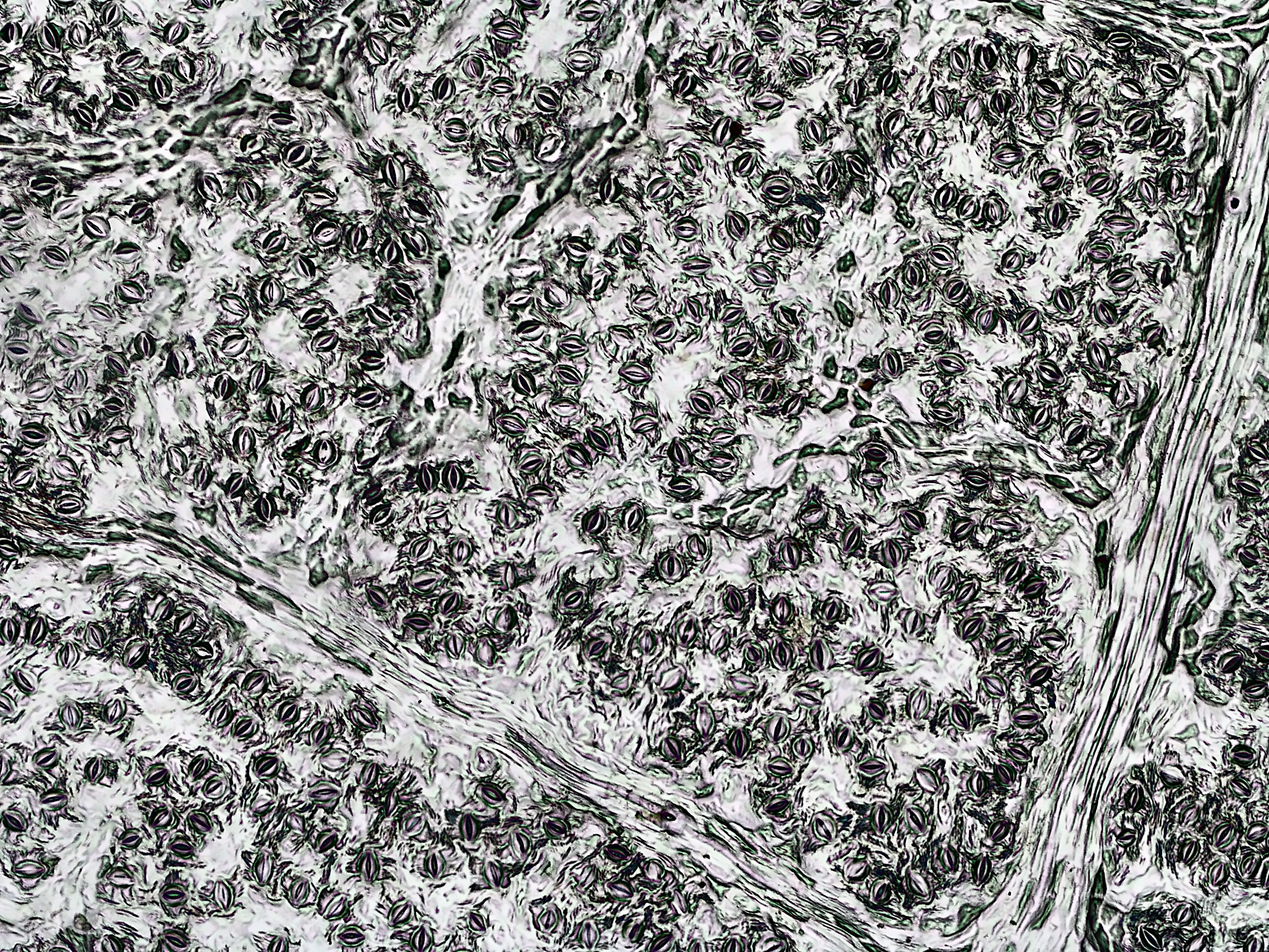stomata: (673, 146, 708, 181), (10, 419, 57, 445), (656, 549, 691, 583), (300, 782, 347, 807), (535, 129, 569, 162), (347, 700, 382, 732), (743, 261, 781, 290), (924, 86, 957, 119), (812, 159, 846, 191), (855, 437, 895, 464), (567, 0, 612, 24), (759, 176, 796, 205), (298, 381, 330, 414), (1084, 338, 1113, 374), (195, 171, 227, 203), (725, 48, 758, 79), (428, 70, 458, 104), (488, 17, 527, 43), (1101, 211, 1138, 238), (161, 442, 192, 474), (120, 637, 150, 670), (187, 459, 217, 492), (1223, 740, 1261, 766), (50, 491, 88, 517), (988, 143, 1026, 169), (438, 116, 473, 144), (1108, 380, 1143, 408), (958, 467, 994, 494), (1030, 167, 1066, 194), (1001, 472, 1034, 501), (395, 79, 420, 117), (112, 279, 153, 302), (1009, 707, 1048, 731), (1031, 360, 1067, 386), (879, 108, 909, 139), (708, 116, 738, 147), (52, 455, 84, 484), (356, 851, 384, 884), (109, 84, 142, 112), (398, 228, 431, 256), (774, 536, 801, 570), (378, 154, 405, 188), (279, 139, 313, 166), (366, 31, 393, 65), (561, 443, 596, 469), (102, 422, 137, 448), (298, 186, 341, 207), (491, 412, 527, 437), (249, 850, 274, 886), (931, 181, 961, 211), (1013, 41, 1041, 73), (35, 20, 62, 53), (764, 226, 797, 253), (1112, 75, 1145, 102), (987, 513, 1024, 537), (478, 148, 515, 172), (1063, 51, 1089, 85), (577, 507, 606, 537), (257, 277, 286, 307), (364, 301, 394, 330), (168, 53, 198, 82), (531, 84, 561, 113), (1041, 198, 1071, 227), (718, 371, 749, 399), (839, 73, 867, 104), (495, 558, 522, 590), (415, 460, 442, 492), (5, 466, 41, 490), (723, 209, 750, 241), (837, 523, 863, 556), (807, 637, 833, 670), (434, 592, 467, 618), (597, 171, 623, 204), (876, 276, 902, 309), (671, 67, 697, 100), (653, 667, 688, 691), (402, 810, 430, 840), (218, 292, 253, 316), (32, 69, 62, 97), (1147, 60, 1182, 84), (981, 89, 1016, 113), (913, 128, 941, 158), (843, 152, 871, 182), (747, 90, 787, 111), (764, 335, 795, 362), (552, 362, 583, 389), (784, 52, 815, 79), (541, 284, 573, 310), (663, 476, 699, 499), (316, 748, 352, 771), (869, 800, 894, 833), (769, 638, 793, 672), (1105, 269, 1139, 293), (931, 352, 968, 374), (876, 538, 905, 566), (1015, 307, 1044, 335), (877, 67, 905, 96), (752, 376, 779, 406), (635, 626, 662, 656), (914, 767, 945, 793), (363, 585, 394, 611), (49, 331, 80, 357), (403, 197, 434, 223), (974, 38, 1000, 69), (861, 35, 892, 61), (564, 50, 599, 73), (231, 425, 256, 457), (513, 319, 545, 344), (310, 220, 342, 245), (1029, 107, 1061, 132), (615, 361, 651, 383), (350, 386, 386, 408), (511, 368, 539, 396), (981, 673, 1009, 701), (773, 302, 802, 329), (62, 367, 89, 396), (1000, 377, 1029, 404), (1092, 299, 1121, 326), (1083, 171, 1112, 198), (998, 248, 1025, 277), (160, 18, 190, 44), (671, 886, 696, 917), (80, 213, 111, 238), (797, 213, 822, 244), (1101, 29, 1136, 51), (925, 244, 957, 268), (502, 259, 540, 279), (792, 687, 825, 710), (990, 760, 1023, 783), (1031, 78, 1064, 101), (963, 92, 986, 125), (809, 812, 836, 840), (72, 100, 99, 128), (1156, 764, 1185, 790), (241, 670, 270, 696), (920, 319, 949, 345), (585, 426, 615, 451), (619, 502, 644, 532), (67, 405, 92, 435), (104, 352, 134, 377), (644, 176, 674, 201), (803, 116, 828, 146), (715, 304, 749, 326), (102, 866, 136, 888), (853, 645, 884, 669), (13, 299, 44, 323), (880, 347, 904, 378), (561, 237, 593, 260), (946, 703, 973, 730), (146, 803, 173, 830), (955, 195, 981, 223), (0, 208, 33, 230), (308, 718, 333, 747), (376, 236, 401, 265), (237, 131, 266, 156), (1078, 441, 1107, 466), (1160, 166, 1185, 195), (1132, 177, 1157, 206), (908, 687, 932, 717), (903, 872, 933, 896), (28, 747, 64, 767), (24, 176, 64, 194), (678, 256, 712, 277), (947, 518, 978, 541), (1, 338, 32, 361), (273, 8, 304, 31), (764, 758, 796, 780), (26, 614, 48, 646), (443, 460, 465, 492), (359, 484, 391, 506), (345, 221, 367, 253), (546, 397, 583, 416), (265, 112, 302, 131), (686, 533, 712, 560), (1139, 924, 1165, 951), (236, 178, 262, 205), (946, 47, 972, 74), (897, 508, 925, 533), (866, 699, 894, 724), (148, 72, 173, 100), (293, 252, 318, 280), (1151, 261, 1176, 289), (668, 436, 692, 465), (991, 631, 1020, 655), (1211, 821, 1235, 850), (252, 753, 281, 777), (514, 453, 547, 474), (693, 702, 714, 735), (407, 570, 440, 591), (1038, 628, 1068, 651), (8, 860, 46, 878), (707, 626, 729, 657), (704, 39, 726, 70), (858, 469, 892, 489), (759, 793, 793, 813), (82, 300, 116, 320), (812, 25, 846, 45), (481, 860, 506, 887), (102, 697, 129, 722), (252, 494, 277, 521), (613, 232, 640, 257), (940, 278, 967, 303), (556, 588, 588, 609), (108, 590, 140, 611), (310, 330, 338, 354), (927, 404, 959, 425), (1232, 475, 1260, 499), (675, 617, 698, 646), (1208, 860, 1231, 889), (211, 878, 234, 907), (1122, 111, 1151, 134), (1077, 139, 1106, 162), (578, 921, 600, 951), (477, 783, 507, 805), (166, 834, 196, 856), (249, 359, 269, 392), (23, 379, 53, 401), (903, 261, 925, 291), (750, 20, 780, 42), (495, 502, 520, 528), (781, 393, 807, 418), (902, 610, 928, 635), (904, 805, 929, 831), (868, 878, 894, 903), (408, 925, 433, 951), (209, 700, 234, 726), (84, 755, 109, 781), (505, 121, 531, 146), (1140, 322, 1165, 348), (1149, 127, 1175, 152), (659, 735, 683, 762), (296, 307, 330, 326), (688, 391, 716, 414), (726, 333, 754, 356), (133, 330, 156, 358), (584, 637, 616, 657), (402, 613, 434, 633), (170, 672, 199, 694), (41, 245, 70, 267), (259, 230, 288, 252), (68, 20, 89, 50), (110, 241, 143, 260), (596, 555, 621, 580), (461, 55, 486, 80), (587, 270, 612, 295), (99, 1, 123, 27), (1061, 419, 1085, 445), (1084, 240, 1110, 264), (312, 830, 339, 853), (56, 641, 79, 668), (443, 630, 466, 657), (1216, 651, 1243, 674), (1051, 286, 1074, 313), (726, 672, 757, 692), (167, 346, 187, 377), (1123, 784, 1145, 812), (288, 877, 310, 905), (312, 438, 334, 466), (0, 533, 22, 561), (384, 10, 412, 32), (976, 305, 998, 333), (797, 504, 826, 525), (607, 881, 636, 902), (672, 217, 701, 238), (1178, 803, 1202, 828), (172, 611, 197, 635), (473, 640, 497, 665), (391, 279, 416, 303), (1244, 438, 1269, 462), (888, 146, 913, 170), (938, 845, 961, 871), (186, 810, 212, 833), (233, 716, 259, 739), (732, 151, 755, 177), (556, 336, 589, 354), (772, 596, 794, 623), (1239, 930, 1266, 952), (492, 607, 519, 629), (1234, 545, 1261, 567), (357, 350, 388, 369), (510, 831, 531, 859), (157, 883, 186, 903), (39, 789, 68, 809), (0, 615, 20, 644), (222, 475, 251, 495), (265, 395, 285, 424), (220, 334, 249, 354), (854, 758, 890, 774), (608, 668, 632, 692), (596, 335, 621, 358), (542, 817, 567, 840), (0, 21, 23, 46), (820, 597, 842, 623), (969, 770, 991, 796), (573, 865, 599, 887), (60, 703, 82, 729), (367, 504, 393, 526), (707, 428, 737, 447), (650, 319, 677, 340), (603, 843, 630, 864), (159, 928, 186, 949), (458, 811, 478, 839), (2, 810, 30, 830), (729, 727, 747, 758), (682, 296, 705, 320), (13, 668, 37, 691), (448, 536, 471, 560), (972, 856, 991, 885), (85, 622, 104, 651), (489, 76, 518, 95), (630, 291, 659, 310), (113, 51, 145, 68), (797, 0, 831, 16), (628, 415, 658, 433), (768, 716, 788, 743), (212, 371, 232, 398), (607, 324, 635, 343), (1073, 104, 1101, 123), (989, 819, 1012, 842), (282, 473, 305, 496), (1239, 854, 1261, 878), (277, 700, 299, 724), (204, 776, 228, 798), (188, 755, 212, 777), (153, 598, 175, 622), (0, 252, 22, 276), (336, 927, 367, 944), (723, 588, 744, 613), (622, 920, 647, 941), (409, 537, 434, 558), (705, 451, 734, 469), (933, 566, 951, 595), (98, 398, 127, 416), (1027, 663, 1051, 684), (961, 617, 982, 641), (1114, 827, 1138, 848), (1177, 838, 1198, 862), (1244, 822, 1268, 843), (382, 787, 400, 815), (54, 198, 82, 216), (1008, 742, 1033, 762), (1182, 932, 1207, 952), (423, 500, 448, 520), (505, 289, 530, 309), (98, 933, 124, 952), (999, 559, 1020, 582), (1022, 578, 1045, 599), (954, 582, 975, 605), (832, 725, 853, 748), (644, 858, 665, 881), (387, 901, 410, 922), (524, 485, 554, 501), (424, 852, 444, 876), (982, 198, 1002, 222), (117, 829, 145, 846), (1228, 776, 1253, 795), (362, 761, 381, 786), (1241, 680, 1266, 699), (536, 908, 558, 929), (327, 896, 349, 917), (129, 201, 151, 222), (1170, 903, 1193, 923), (869, 582, 896, 599), (249, 795, 273, 814), (190, 641, 215, 659), (843, 862, 869, 879), (145, 765, 171, 782), (466, 912, 487, 933), (742, 645, 765, 664), (650, 932, 674, 950), (266, 936, 291, 952), (0, 691, 16, 716), (286, 812, 307, 831), (1030, 407, 1050, 426), (357, 454, 379, 471), (762, 939, 789, 952), (794, 737, 810, 754), (686, 940, 706, 952), (724, 939, 742, 952)
